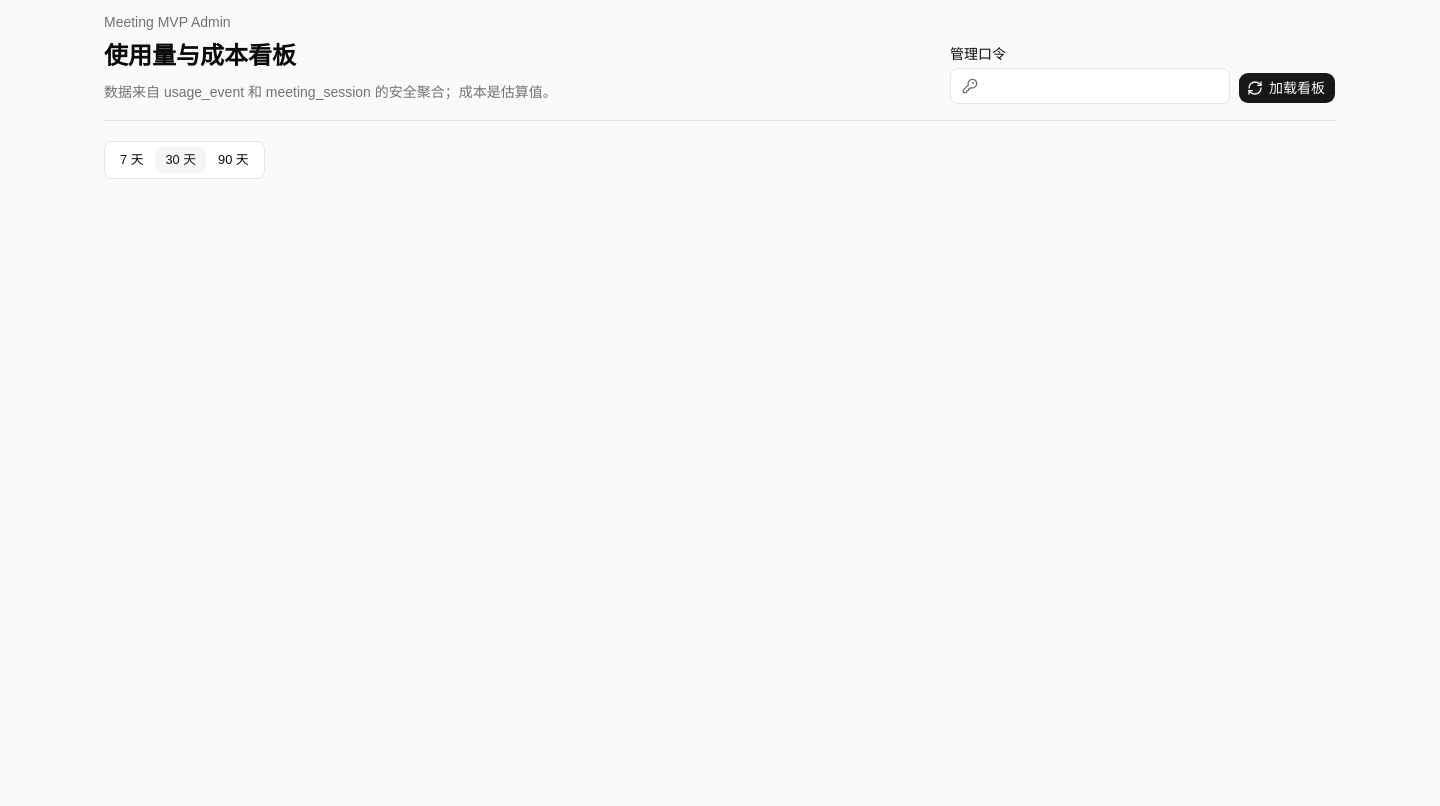
it: UsageDashboardPage › loads metrics after entering the admin token without writing storage
Type "admin-secret" into the password field labelled "管理口令".
click(1090, 86); type("admin-secret")  # box [950,68,1230,104]
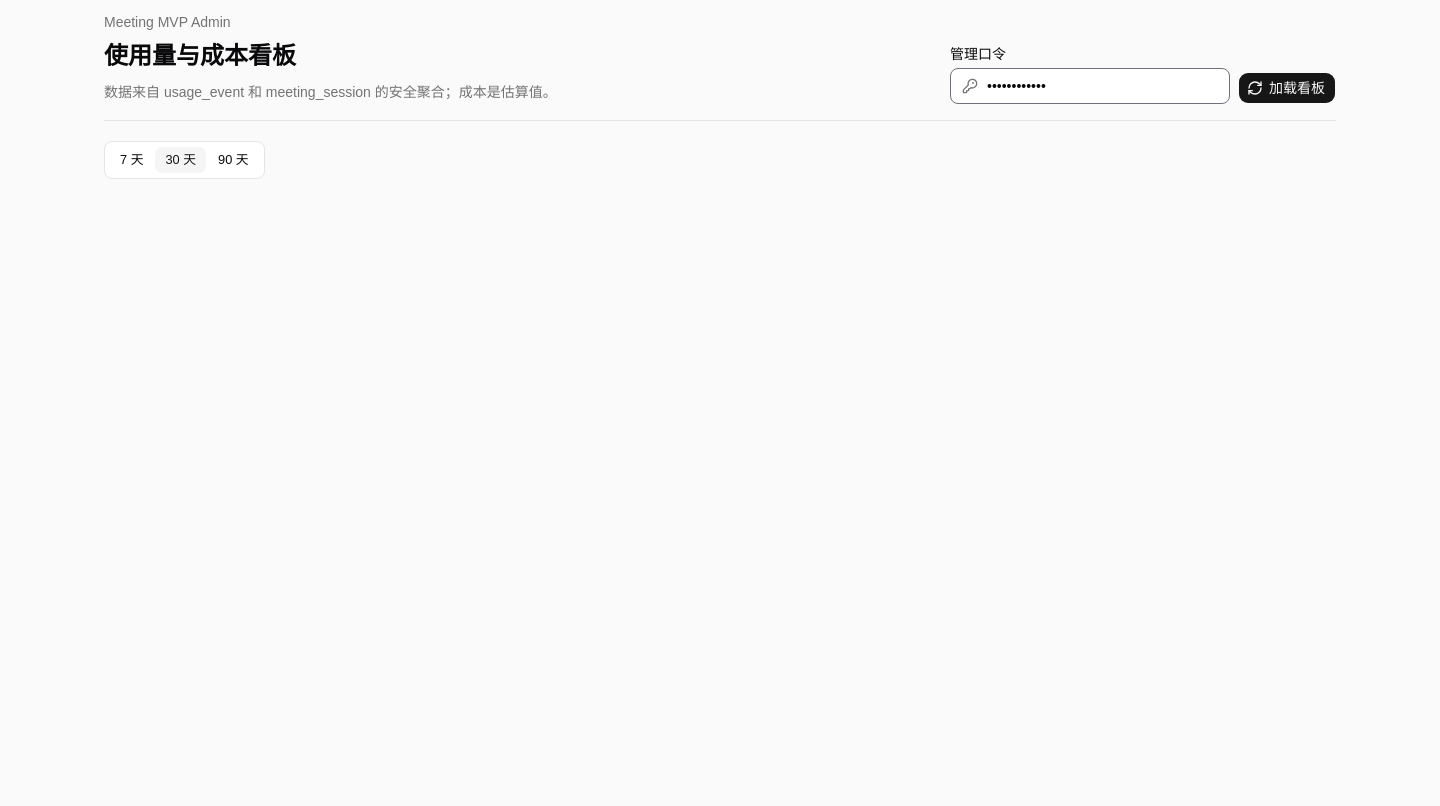
Click the button "加载看板".
click(1287, 88)  # box [1238,72,1336,104]
(page scrolled)
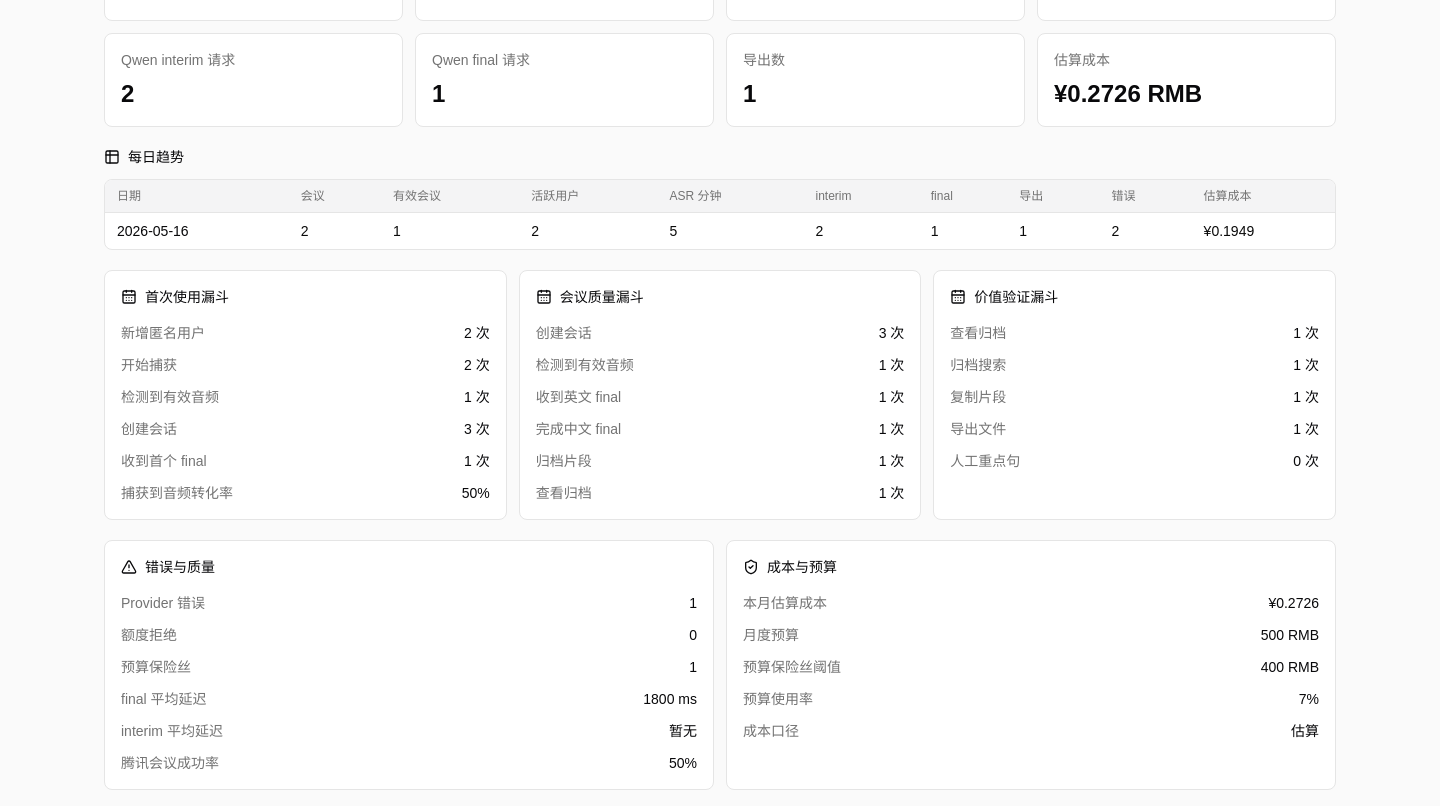
Check: the text "¥0.2726" is shown, box [1268,593,1319,613]
